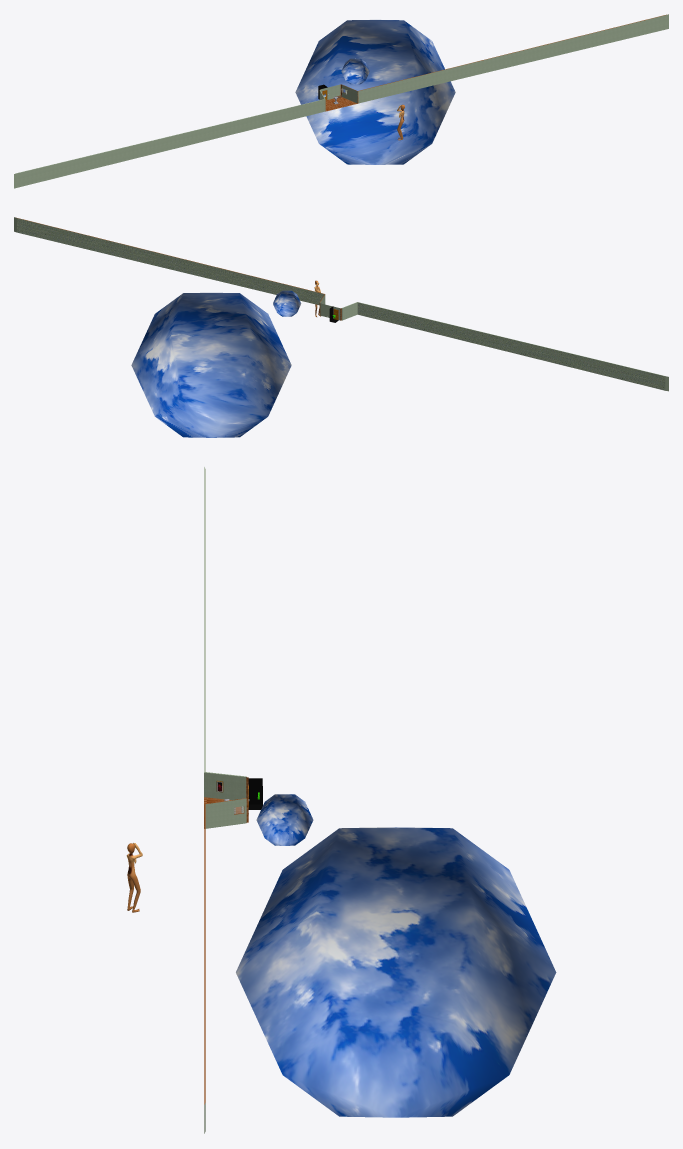
File: roomofstuff.gltf
3 renders of one model, top to bottom at view 1: azimuth 30°, elevation 25°; view 2: azimuth 150°, elevation 25°; view 3: azimuth 270°, elevation 25°, orthographic. The views are drawn at different scales.
Parts seen in each view (by area): view 1: sky, Room, sky2; view 2: sky, Room, sky2; view 3: sky, Room, sky2.
Part boxes in pixels (x1,y1,x2,y2): sky: (295,19,455,164); Room: (14,14,668,188); sky2: (341,58,369,84); sky: (131,292,291,437); Room: (14,217,668,391); sky2: (273,290,301,316); sky: (236,827,556,1117); Room: (204,467,262,1133); sky2: (256,794,313,845).
Size of the model in its own units: 126 by 26.74 by 35.84.
Materials: 49 (17 with a texture image).
